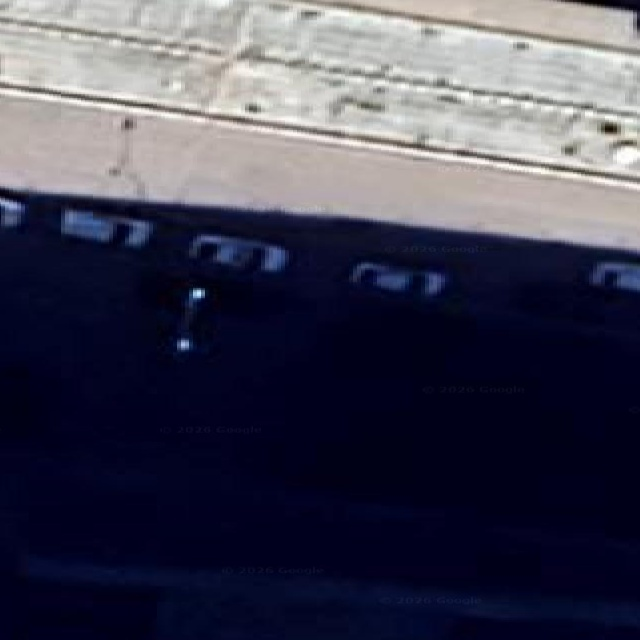car: (188, 235, 287, 272), (348, 261, 446, 296), (588, 261, 639, 292)
